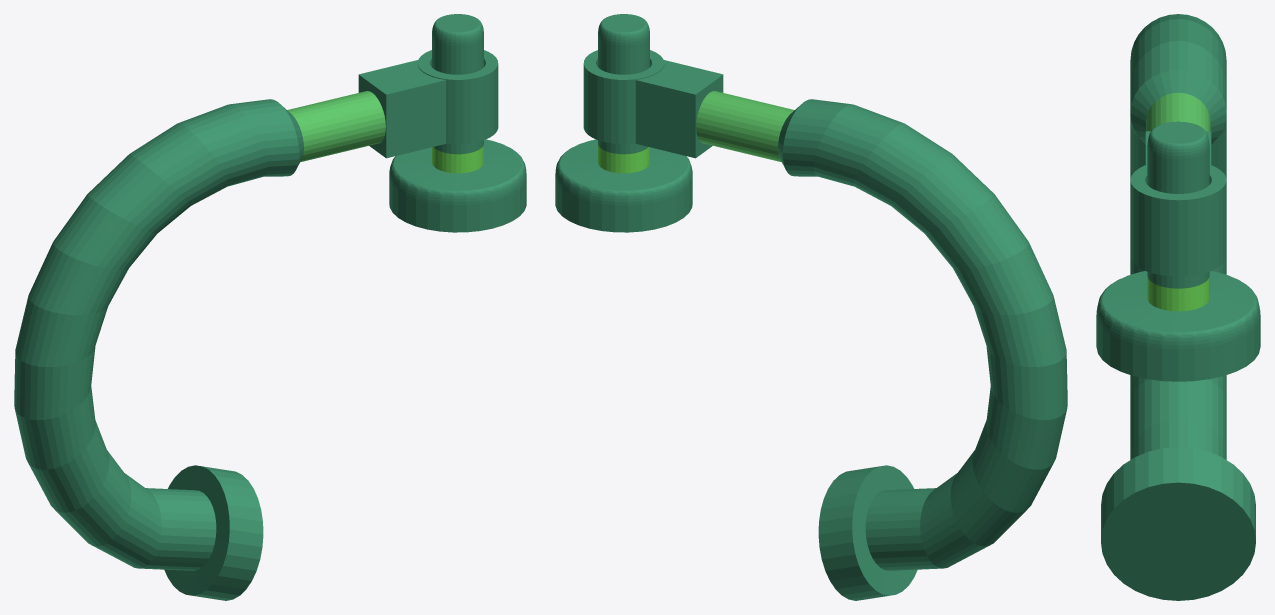
3 views of the same model, side by side, from view 1: azimuth 30°, elevation 25°; view 2: azimuth 150°, elevation 25°; view 3: azimuth 270°, elevation 25° (orthographic). The views are drawn at different scales.
Parts seen in each view (by area): view 1: Cylinder, Cylinder.001, Cylinder.002; view 2: Cylinder, Cylinder.001, Cylinder.002; view 3: Cylinder, Cylinder.001, Cylinder.002.
Boxes of the visible parts, x1,y1,x2,y2 form: Cylinder: (14,60,446,600); Cylinder.001: (389,14,526,232); Cylinder.002: (417,50,498,144); Cylinder: (635,60,1067,600); Cylinder.001: (555,14,692,232); Cylinder.002: (583,50,664,144); Cylinder: (1101,14,1255,600); Cylinder.001: (1096,121,1260,381); Cylinder.002: (1130,165,1226,276).
Bounding box in the file's own units: 14.23 × 14.02 × 3.41.
Materials: 3 (3 with a texture image).
